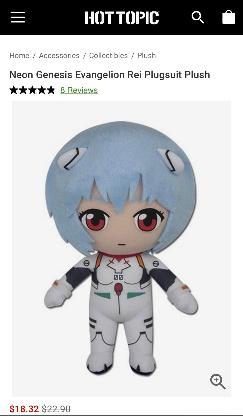rei-plush: (25, 119, 216, 374)
